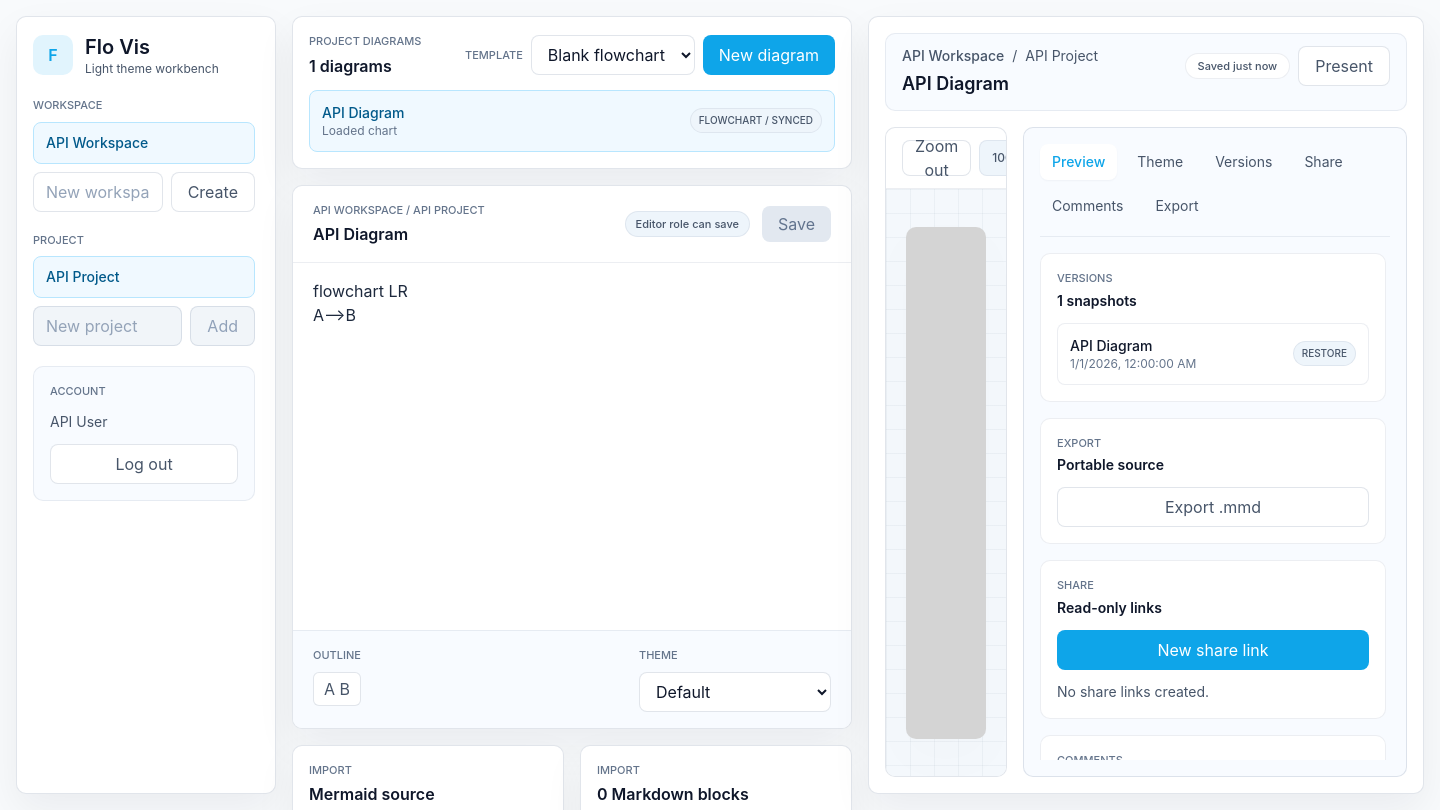
Scenario: WorkspaceProjectShell › creates and revokes a read-only share link through the API client
The width and height of the screenshot is (1440, 810).
Expected: the button "API Diagram Loaded chart flowchart / Synced" is shown, [309, 90, 835, 152]
Click the button "New share link". click: {"x": 1213, "y": 650}
box: [1057, 630, 1369, 670]
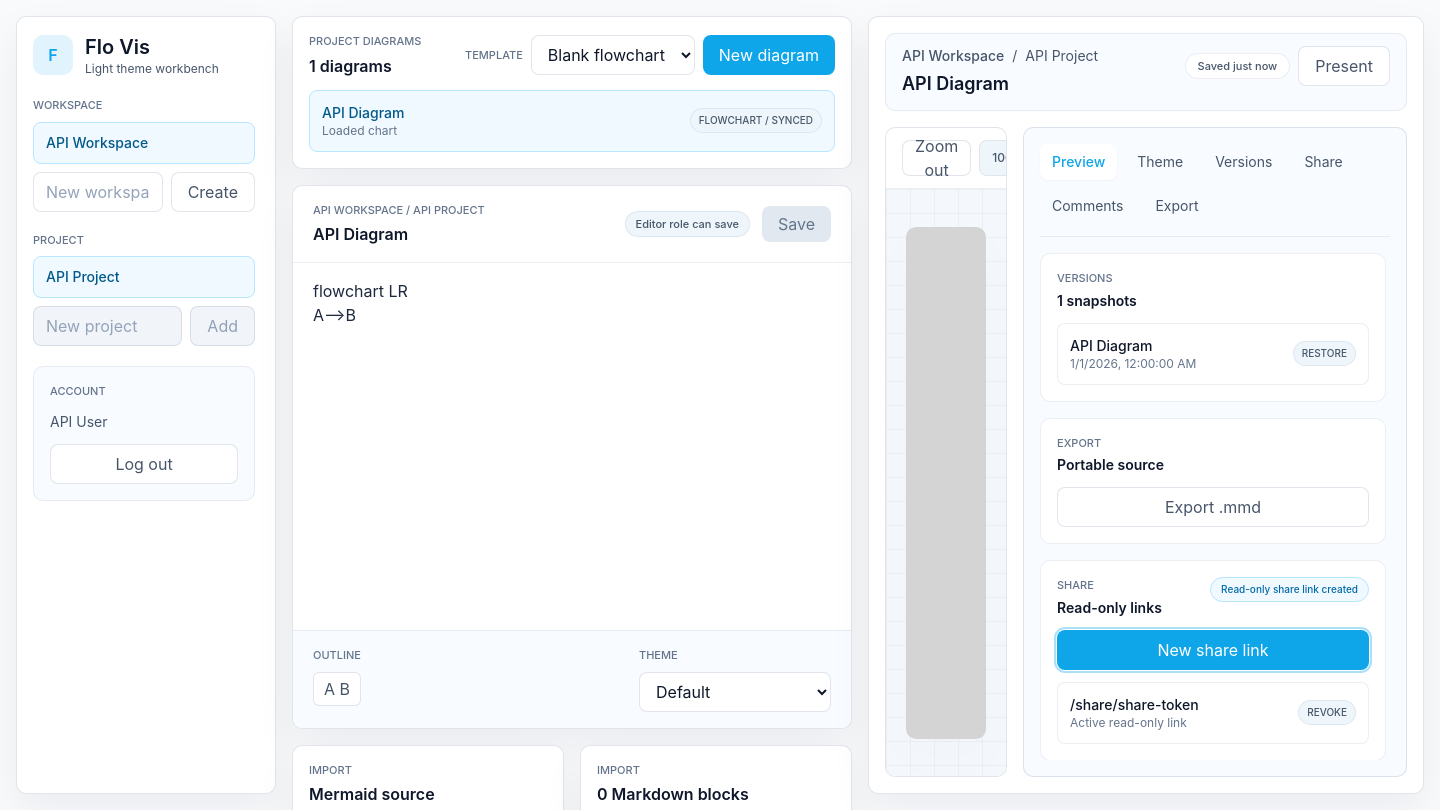
Expected: the text "Read-only share link created" is shown, [1210, 577, 1369, 602]
Click the button with aria-label "Revoke share link". click: {"x": 1134, "y": 704}
box: [1057, 682, 1369, 744]
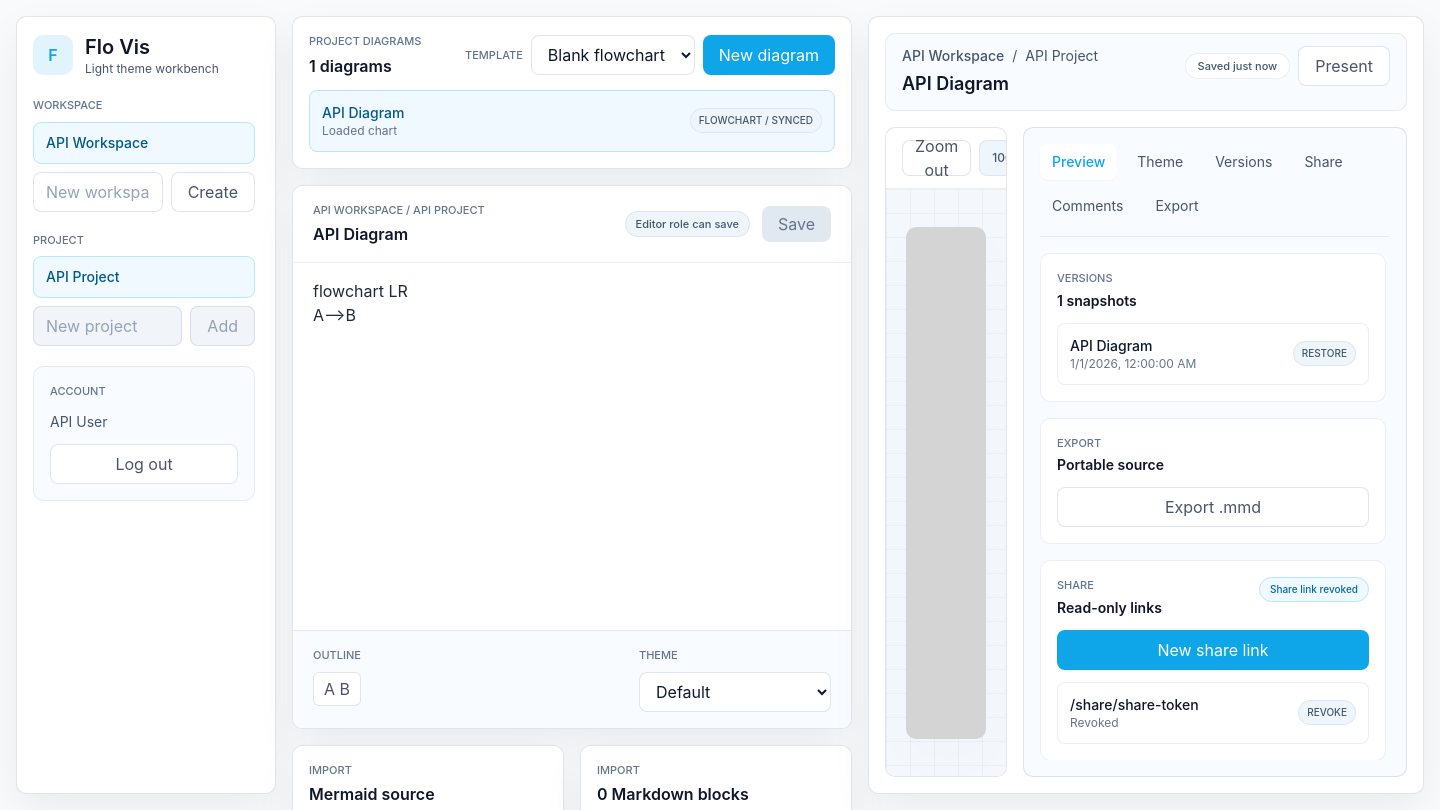
Expected: the text "Share link revoked" is shown, [1259, 577, 1369, 602]
